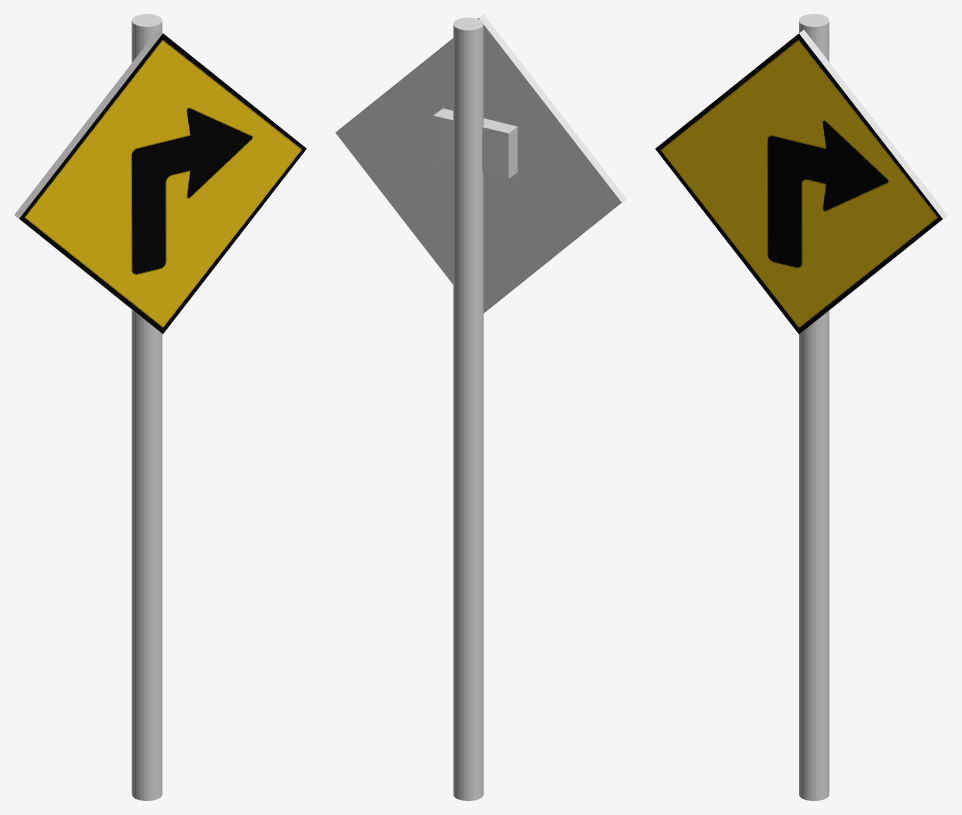
File: PeringBelokKanan.fbx
The picture shows the model from 3 angles, left to right: view 1: azimuth 30°, elevation 25°; view 2: azimuth 150°, elevation 25°; view 3: azimuth 330°, elevation 25°; orthographic projection.
Parts seen in each view (by area): view 1: Cube.002, Cylinder.002; view 2: Cube.002, Cylinder.002, Cube.001; view 3: Cube.002, Cylinder.002.
Part boxes in pixels (x1,y1,x2,y2): Cube.002: (14,30,306,333); Cylinder.002: (131,14,162,800); Cube.002: (335,14,626,312); Cylinder.002: (453,17,483,800); Cube.001: (433,108,517,178); Cube.002: (655,30,947,333); Cylinder.002: (799,14,829,800).
Bounding box in the file's own units: 283 × 727 × 39.46.
